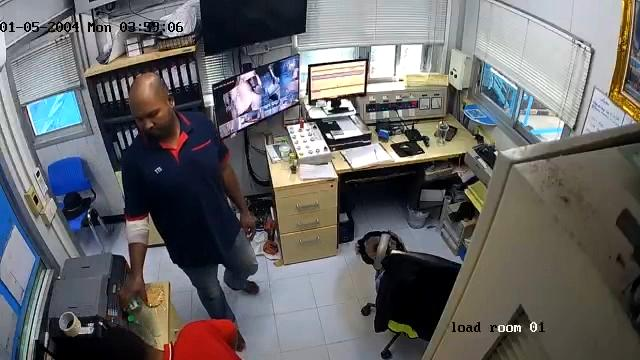Head: (126, 75, 174, 132)
People: (119, 74, 258, 351)
